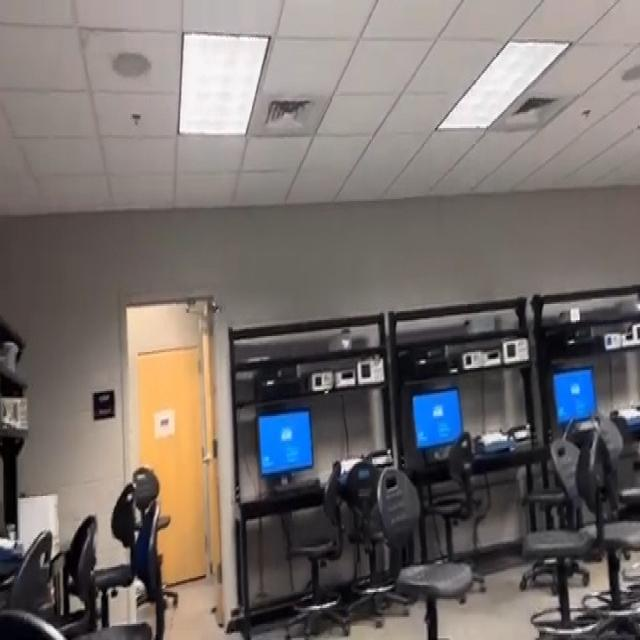drone: (202, 282, 232, 326)
